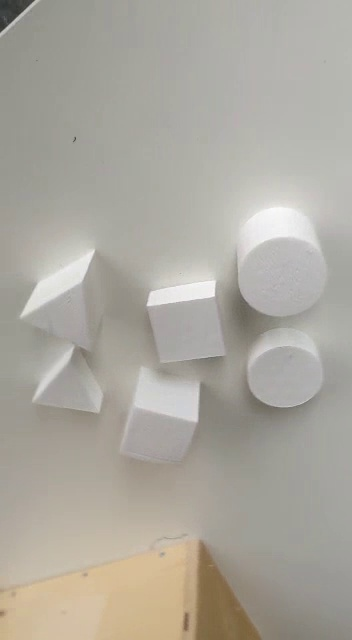Clyinder_short: (242, 325, 324, 412)
Cube: (117, 363, 204, 475)
Cube_short: (140, 275, 229, 367)
Cylinder: (232, 203, 330, 317)
Triangle: (21, 248, 112, 350)
Triangle_short: (26, 345, 113, 421)
